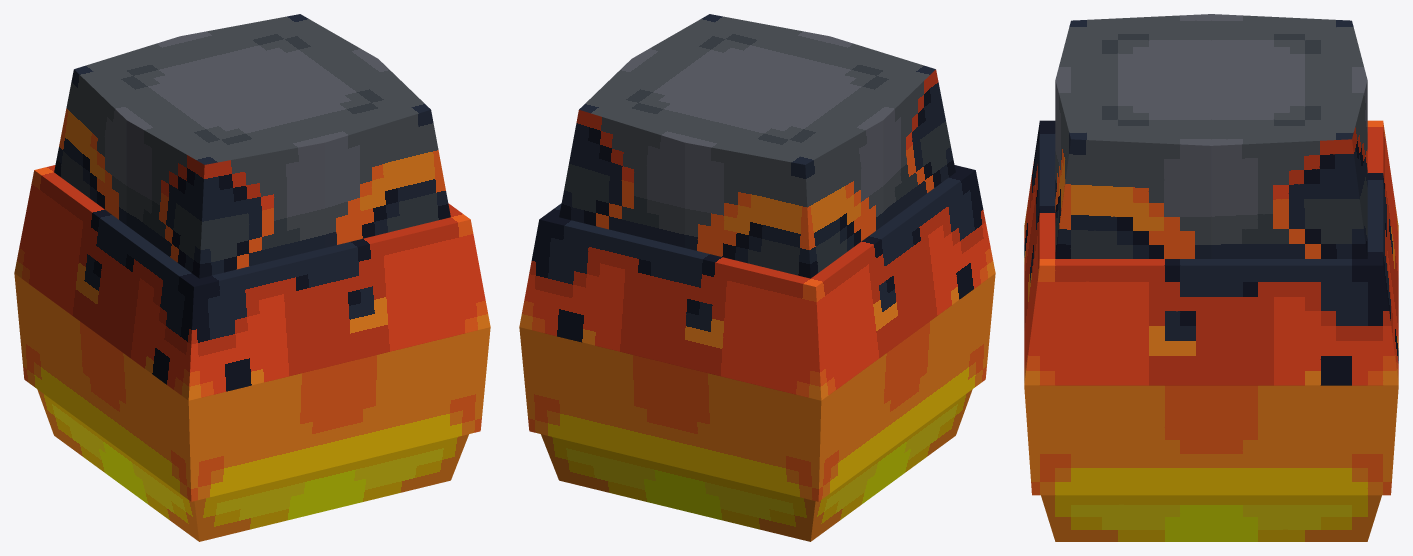
Rendered from nether-egg.gltf.
The picture shows the model from 3 angles, left to right: view 1: azimuth 30°, elevation 25°; view 2: azimuth 150°, elevation 25°; view 3: azimuth 270°, elevation 25°; orthographic projection. The views are drawn at different scales.
Visible parts, largest first — view 1: cube (×3); view 2: cube (×3); view 3: cube (×3).
Part boxes in pixels (x1=…): cube (×3): x1=14, y1=14, x2=490, y2=541; cube (×3): x1=519, y1=14, x2=995, y2=541; cube (×3): x1=1024, y1=14, x2=1398, y2=541.
Size of the model in its own units: 0.75 by 0.875 by 0.75.
Materials: 1 (1 with a texture image).
